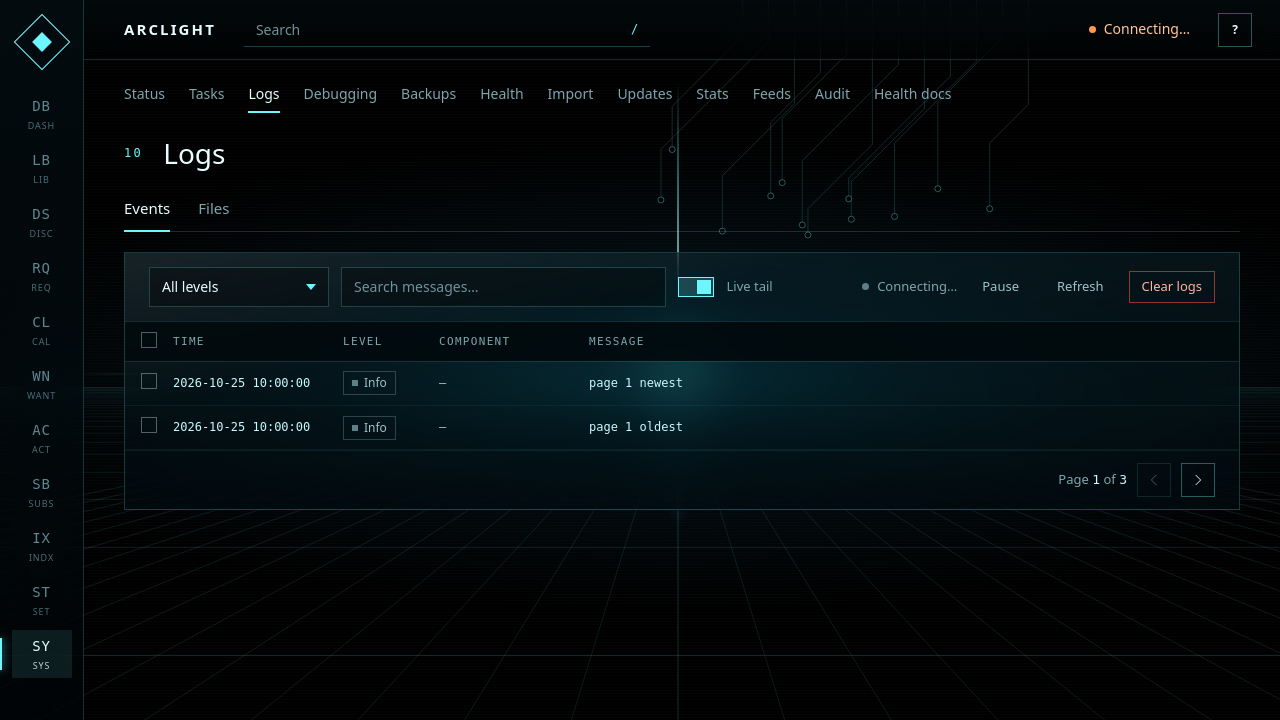
System → Logs search › resets to page 1 when the search changes
The image size is (1280, 720).
Expected: the text "page 1 newest" is shown, [589,376,683,390]
Click the button named "Next page" at (1198, 480), box [1181,463,1215,497]
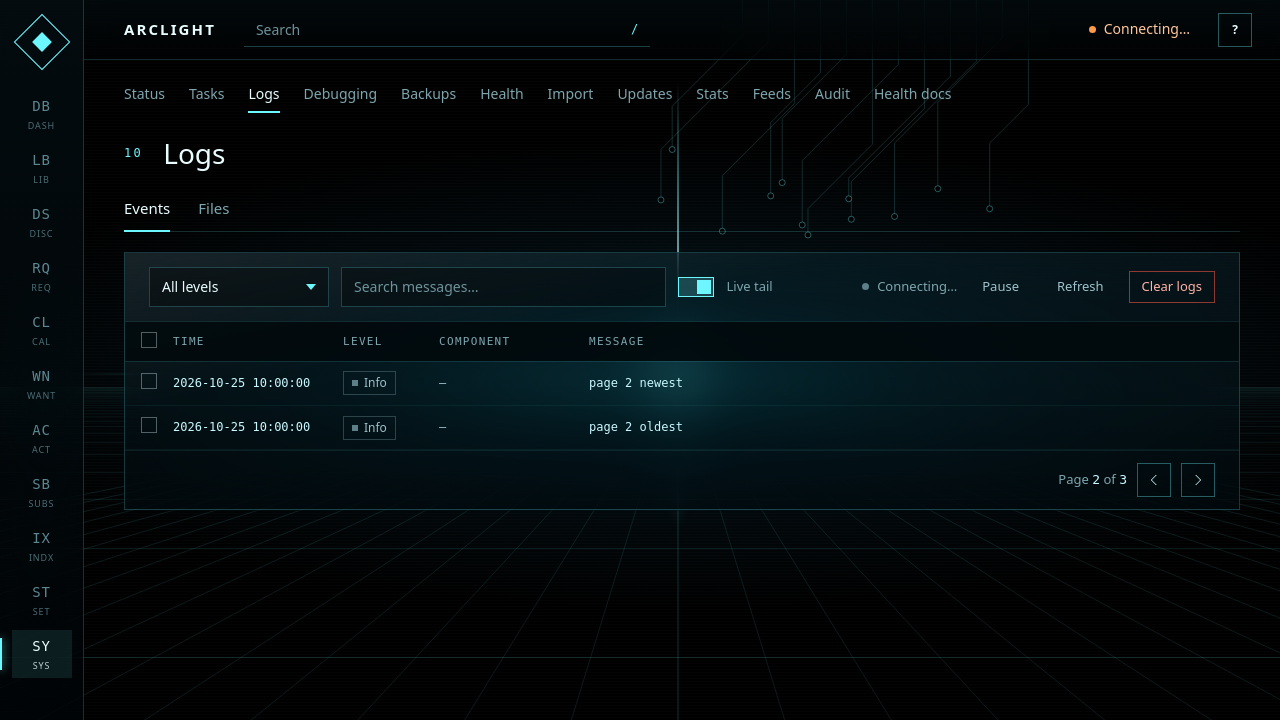
Expected: the text "page 2 newest" is shown, [589,376,683,390]
Type "grab" into the search field named "Search logs" at (504, 287), box [341,267,666,307]
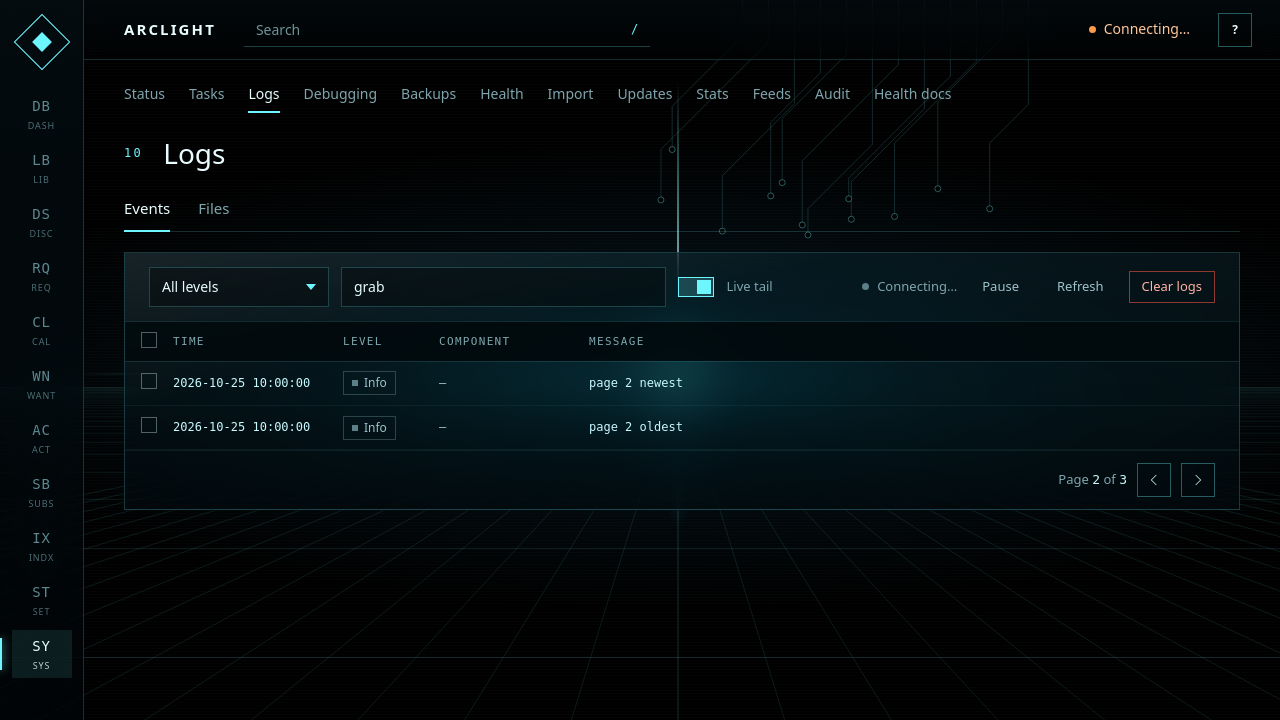
Press Enter in the search field named "Search logs", box [341,267,666,307]
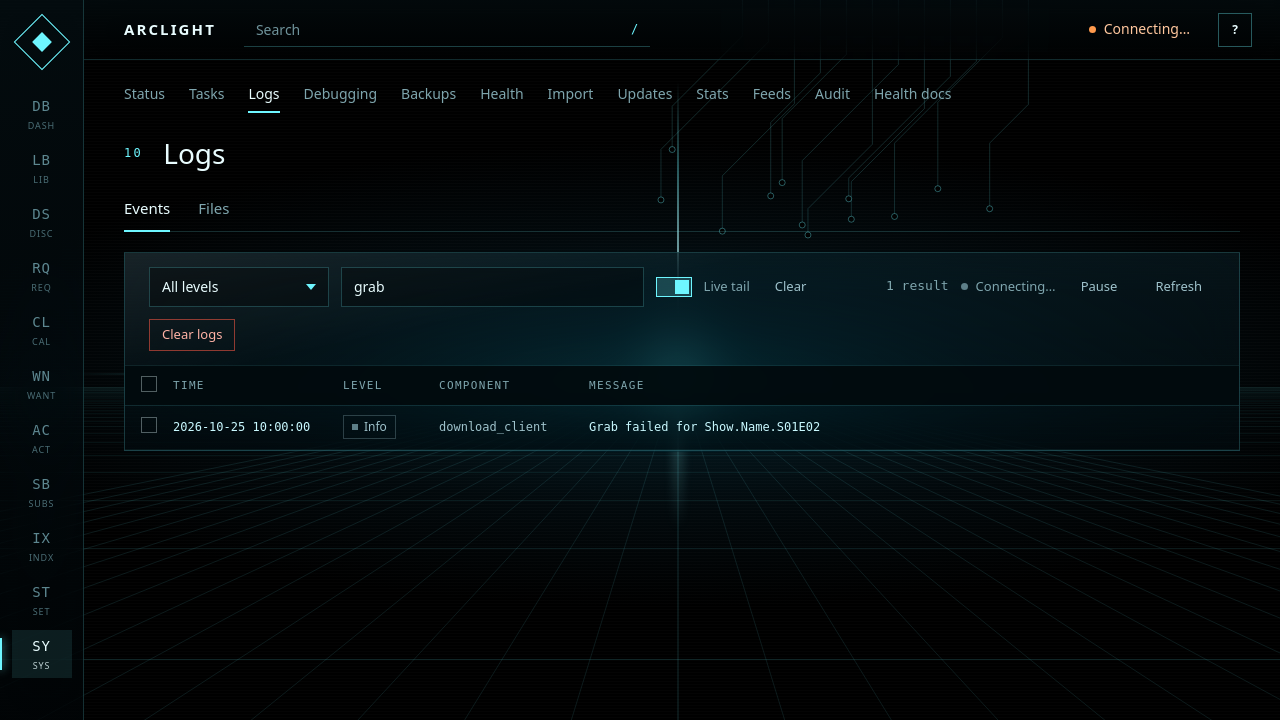
Expected: the text "Grab failed for Show.Name.S01E02" is shown, [589,420,820,434]
